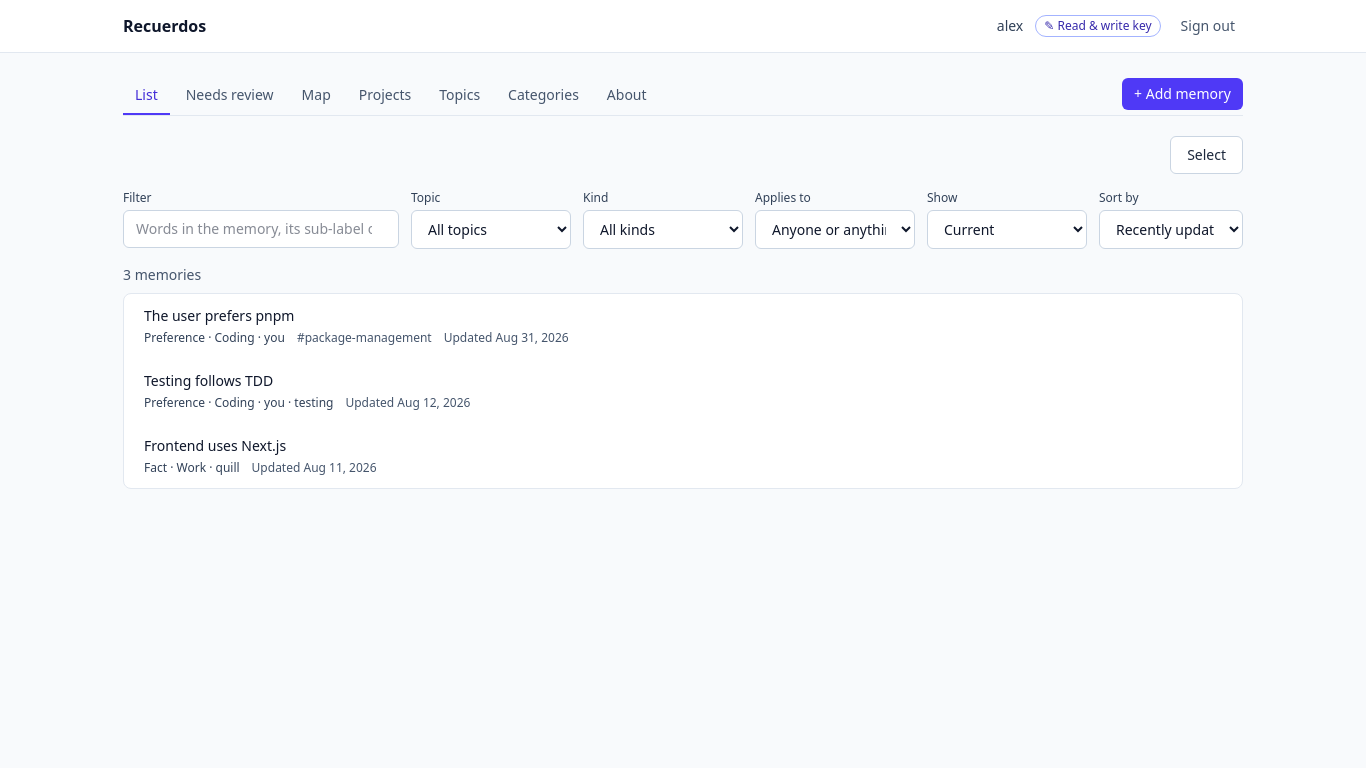
Test: the About page › shows the version and the key, and points a non-admin at `recuerdos-ai config`
The width and height of the screenshot is (1366, 768).
Expected: the text "The user prefers pnpm" is shown, 144,306 -> 294,325
Click the link "About".
click(627, 94)  # box 607,85 -> 646,104
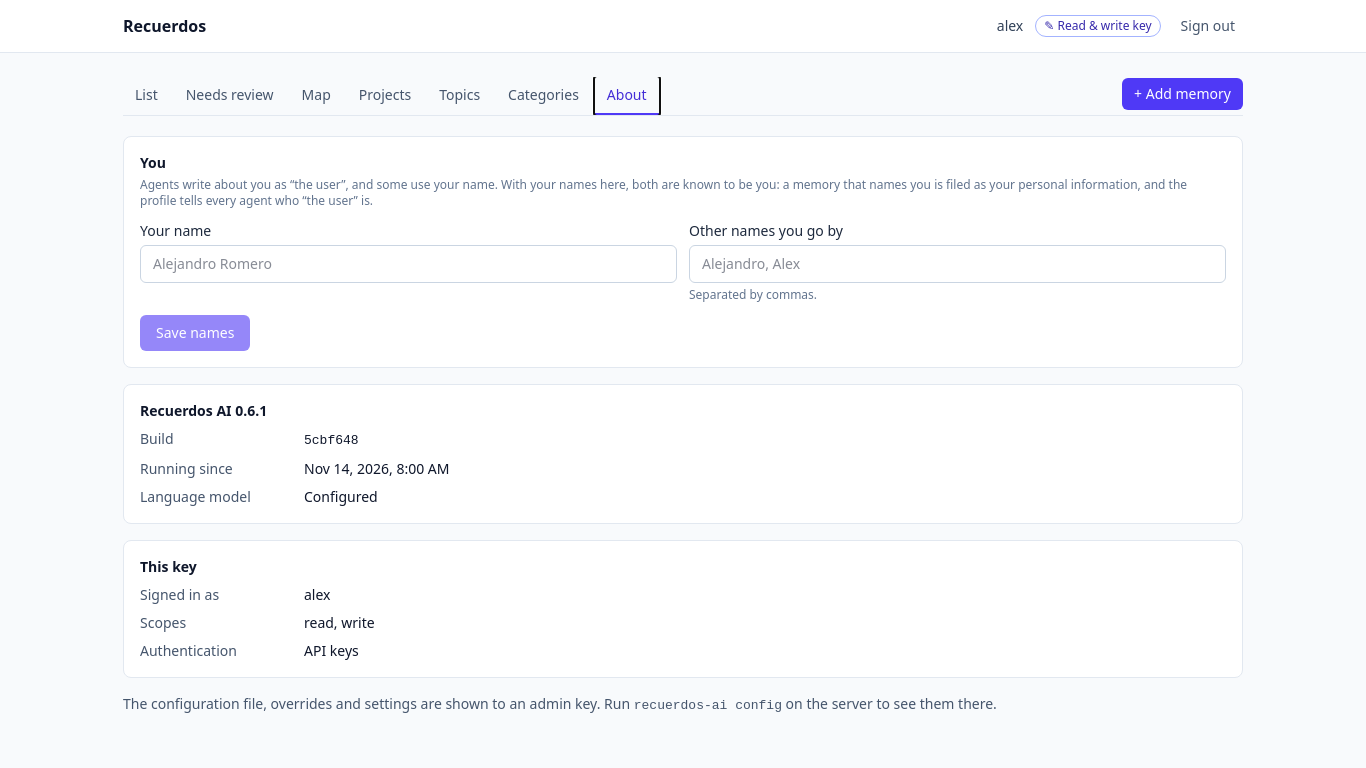
Now the heading "Recuerdos AI 0.6.1" is shown, box 140,401 -> 267,420
Now the text "shown to an admin key" is shown, box 123,694 -> 630,713
